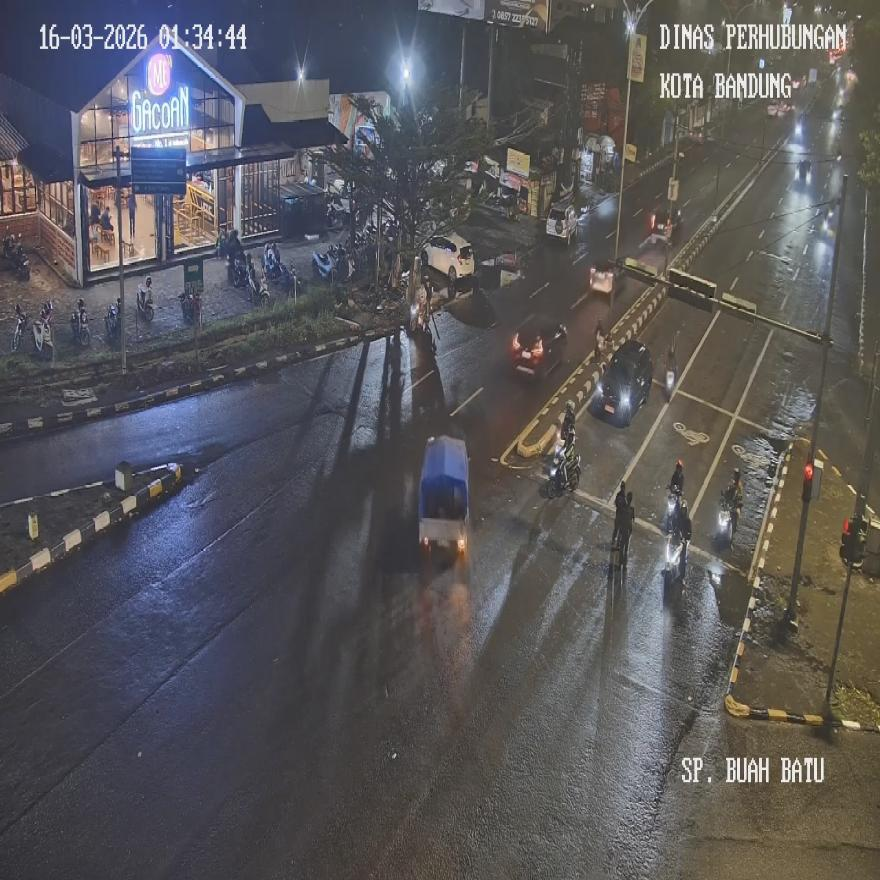Motor: (418, 433, 470, 559), (596, 340, 653, 424), (511, 312, 566, 380), (422, 232, 474, 295), (545, 200, 578, 247)
Truk: (546, 443, 577, 496), (1, 232, 30, 281), (715, 491, 738, 548), (663, 530, 686, 586), (249, 259, 271, 306), (70, 298, 90, 347), (32, 316, 53, 360), (312, 246, 336, 284), (135, 276, 154, 323), (182, 282, 202, 326), (663, 484, 680, 535), (12, 304, 29, 352), (227, 251, 247, 287), (105, 297, 121, 340), (664, 350, 676, 400)
